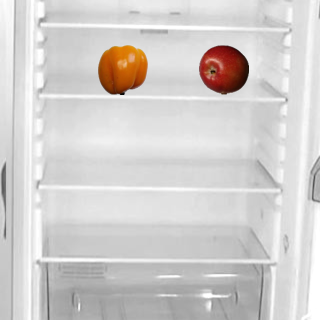Apple Braeburn: (198, 44, 248, 94)
Pepper Yellow: (97, 44, 147, 94)
